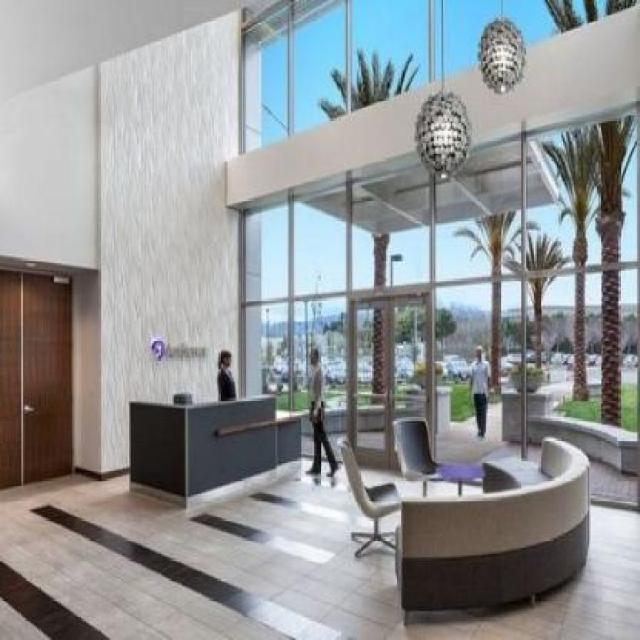frontdesk: (123, 382, 309, 512)
